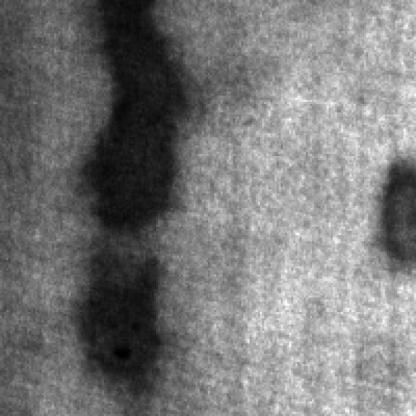patches: (86, 0, 192, 229), (79, 241, 169, 385), (374, 150, 416, 272)
